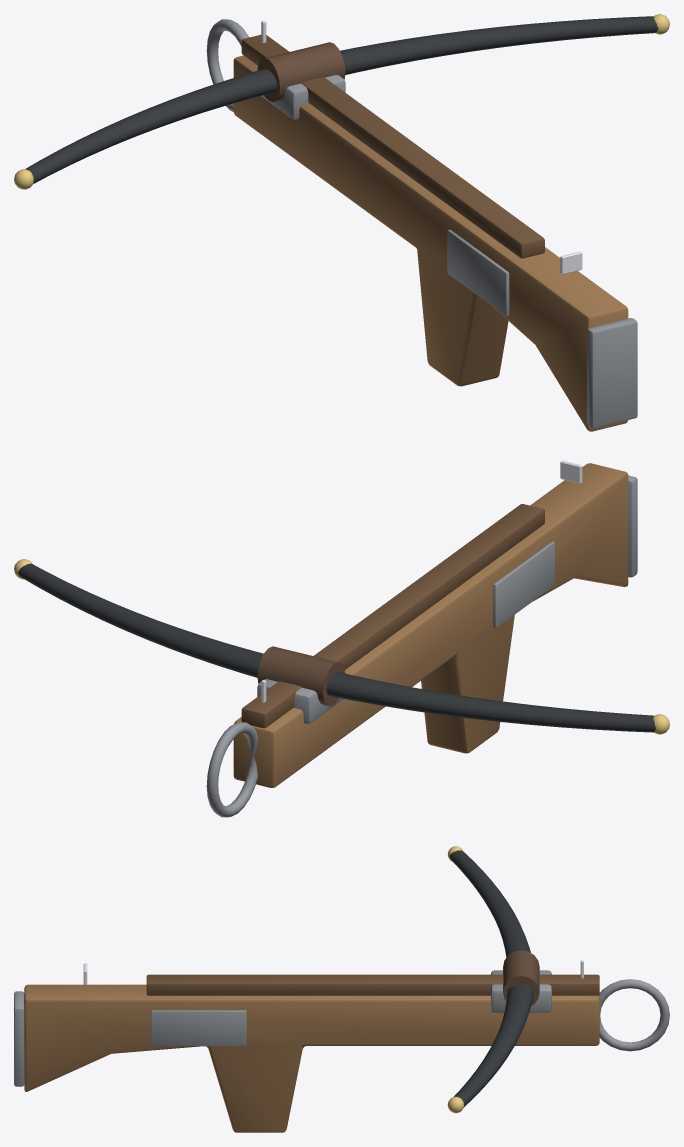
The model's file is crossbow.glb.
3 views of the same model, one above another, from view 1: azimuth 30°, elevation 25°; view 2: azimuth 150°, elevation 25°; view 3: azimuth 270°, elevation 25° (orthographic). The views are drawn at different scales.
Visible parts, largest first — view 1: crossbow; view 2: crossbow; view 3: crossbow.
Part boxes in pixels (x1,y1,x2,y2): crossbow: (14,14,669,431); crossbow: (14,460,669,817); crossbow: (14,846,669,1132).
Size of the model in its own units: 0.699 by 0.209 by 0.7525.
